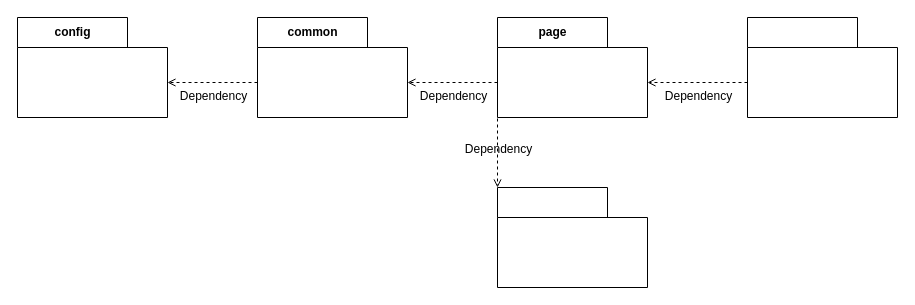
Some shapes in this 915 by 305 pixel diagram are drawn without their labels. Each missing label, with the centre of its shape:
"base" goes at (x=572, y=237).
"testcases" goes at (x=822, y=67).
